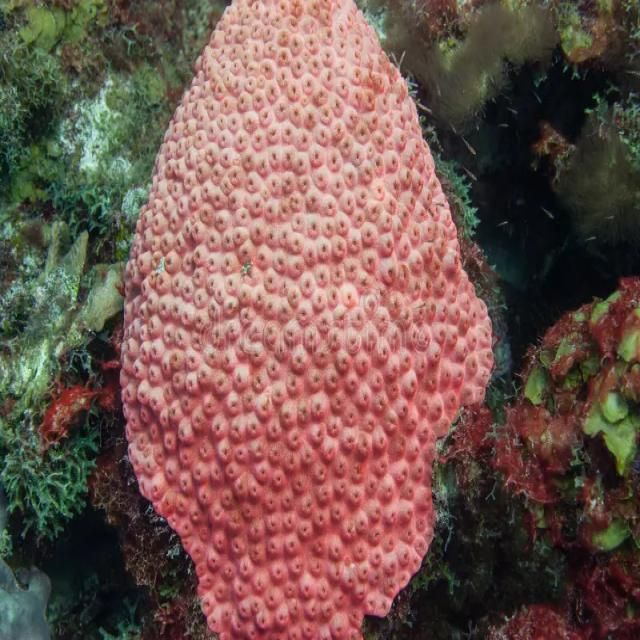Coral: (121, 0, 491, 640)
